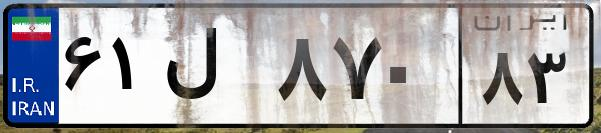0: (385, 28, 445, 110)
1: (110, 28, 158, 98)
3: (525, 38, 570, 115)
6: (57, 26, 110, 100)
7: (330, 28, 385, 110)
8: (270, 28, 330, 110), (475, 38, 525, 113)
ل: (158, 20, 270, 120)
